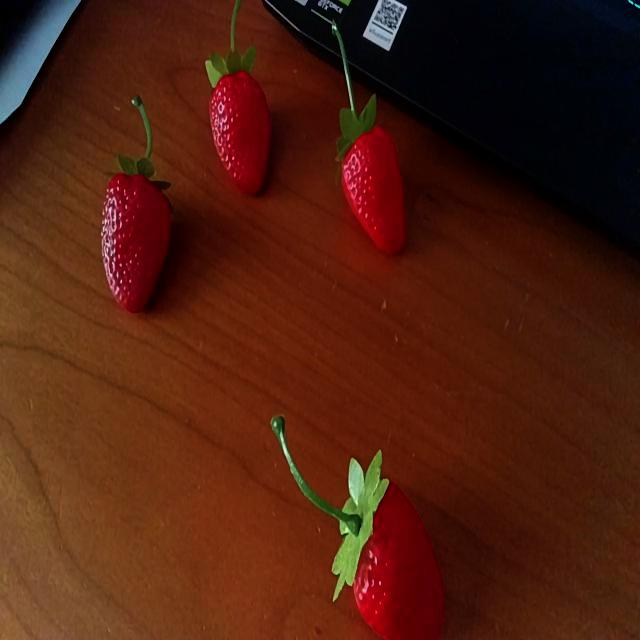ripe: (270, 410, 458, 640), (305, 21, 432, 263), (92, 93, 180, 324), (194, 0, 276, 199)
